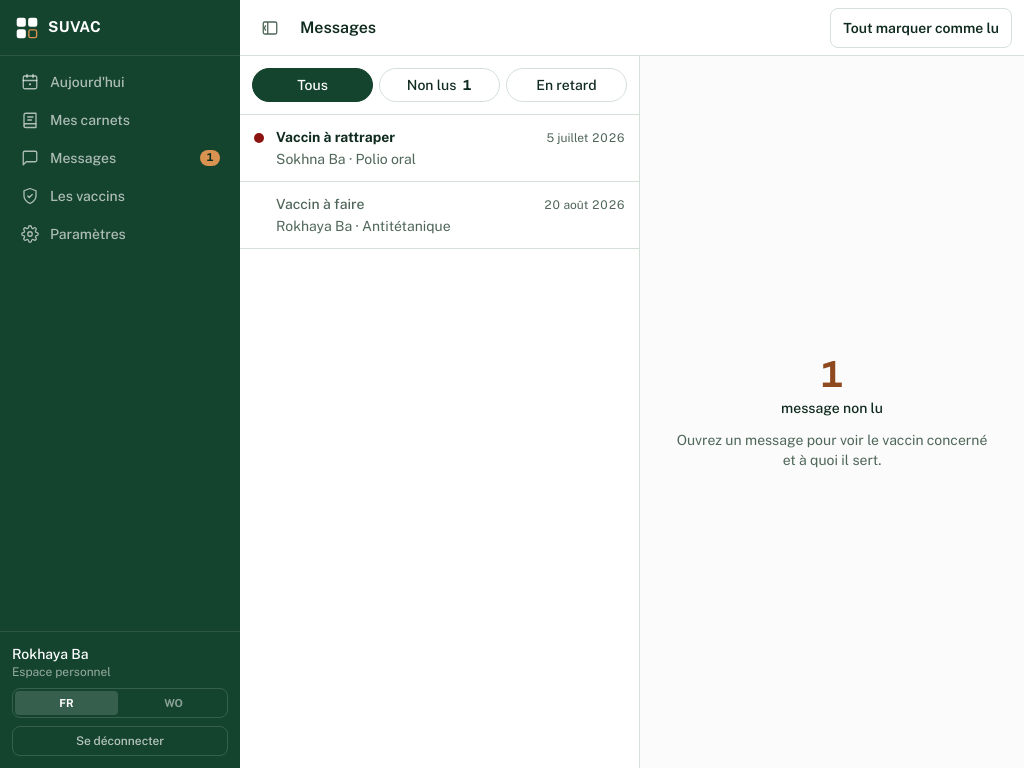
Scenario: Messages › ouvre le message choisi
What coordinates should you click on to do the following:
click the text "Vaccin à rattraper"
I would click on:
 (336, 137)
Its box is [276, 127, 395, 147].
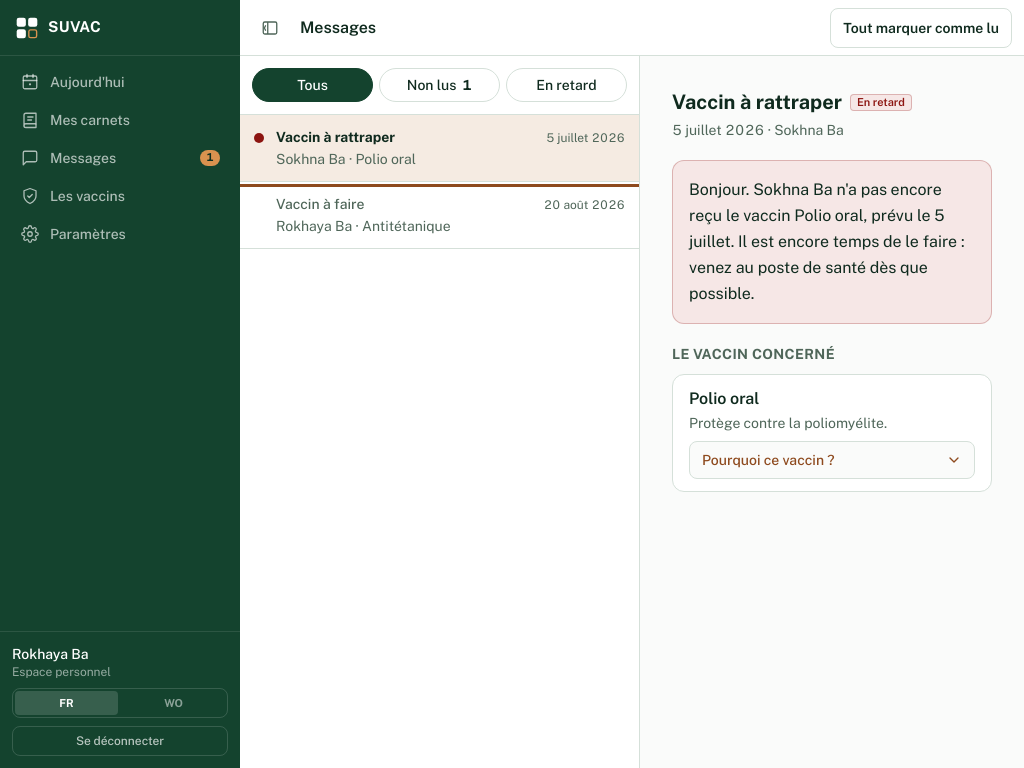
Expected: the text "il est encore temps de le faire" is shown, [689, 180, 964, 303]
